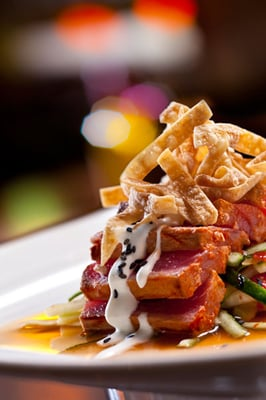soup: (83, 101, 264, 343)
